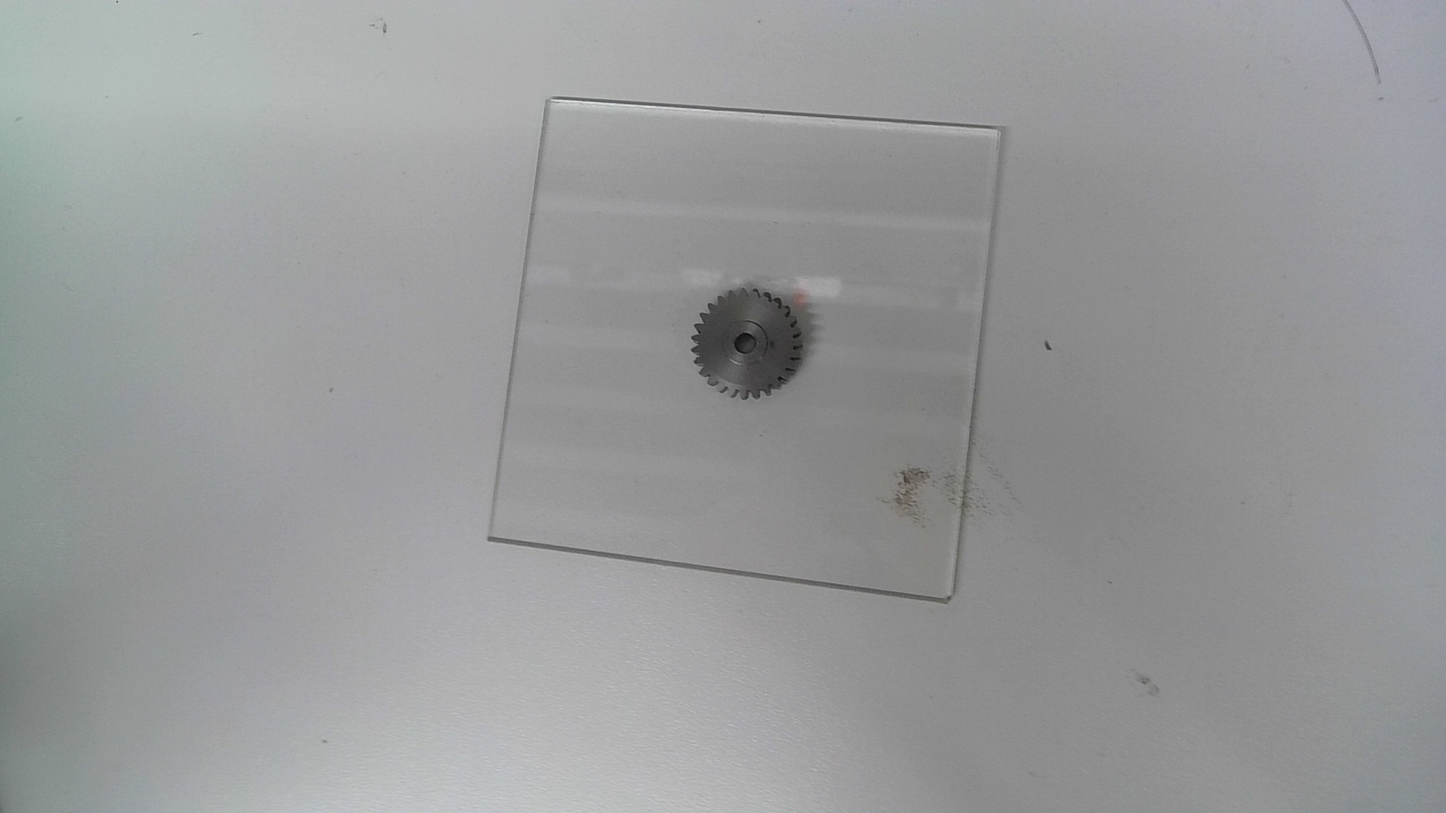gear: (687, 282, 804, 404)
